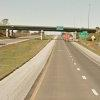Bridge: (2, 13, 91, 35)
